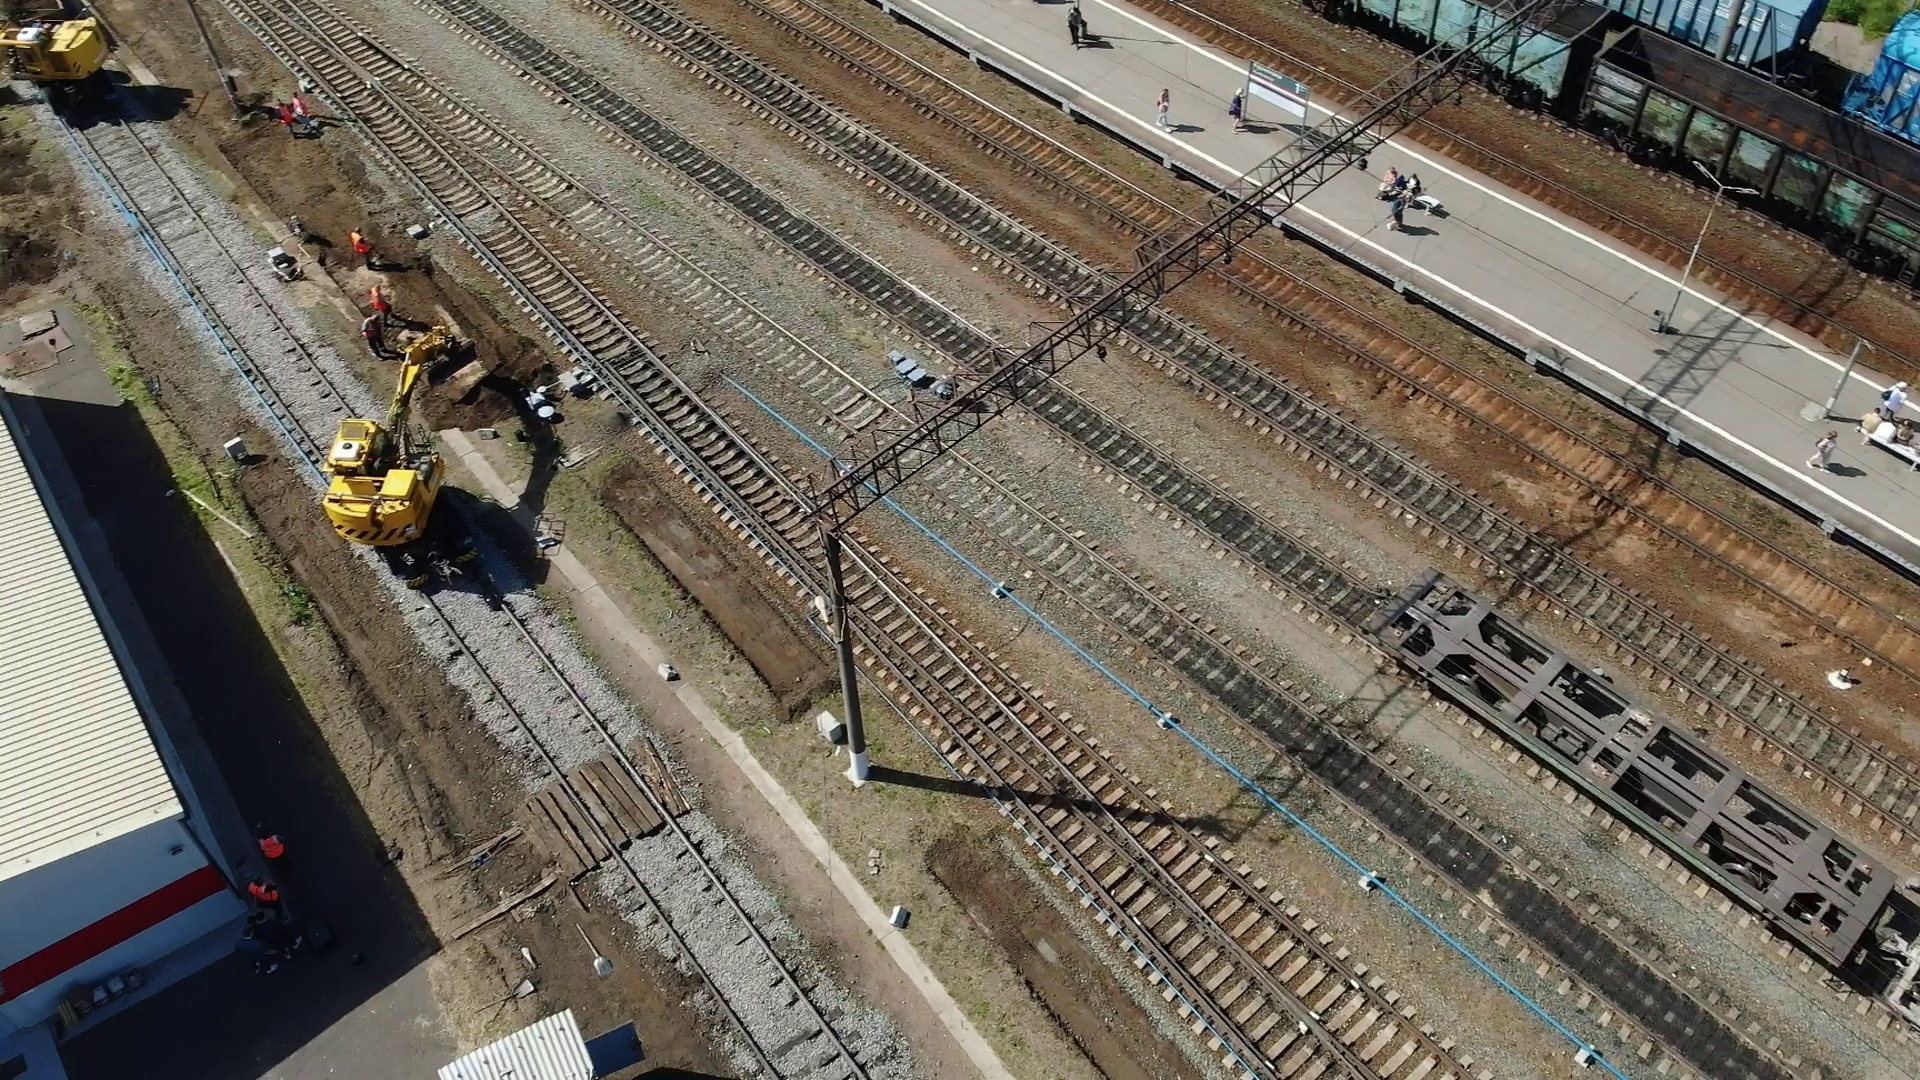kjtv: (326, 357, 469, 572), (1, 15, 127, 109)
